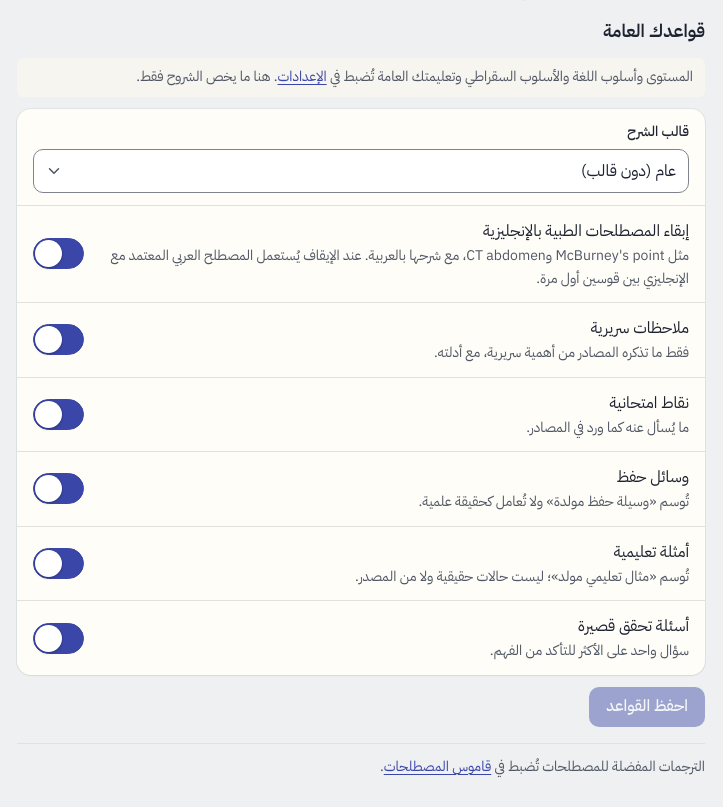
RulesScreen › shows the effective rules with where each value comes from; saving sends only the owner layer
(page scrolled)
Expected: the button "احفظ القواعد" is disabled, [589,687,705,727]
Click the 4th switch named "وسائل حفظ" at (58, 489), box [33,473,84,504]
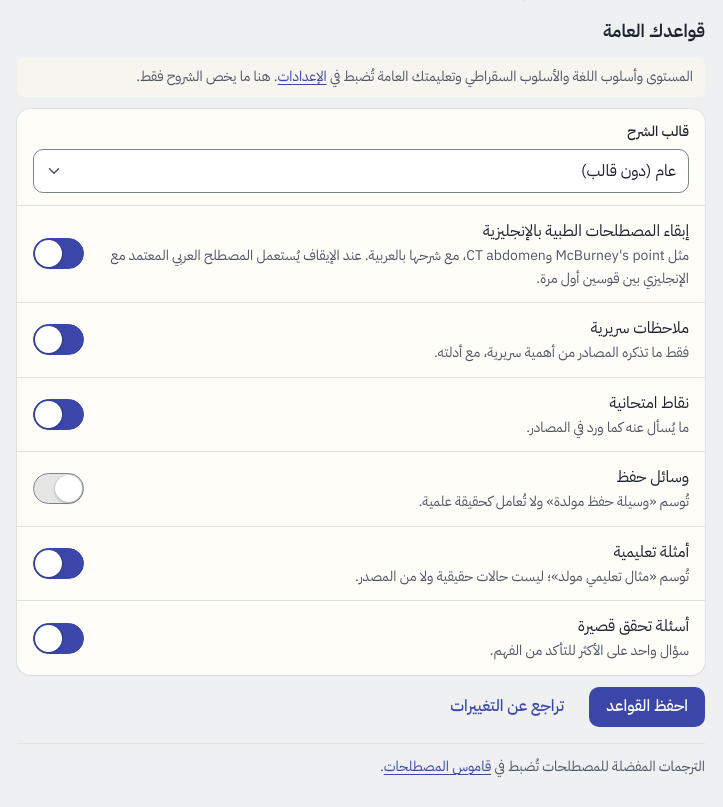
Now the button "احفظ القواعد" is enabled
Click the button "احفظ القواعد" at (647, 707), box [589,687,705,727]
(page scrolled)
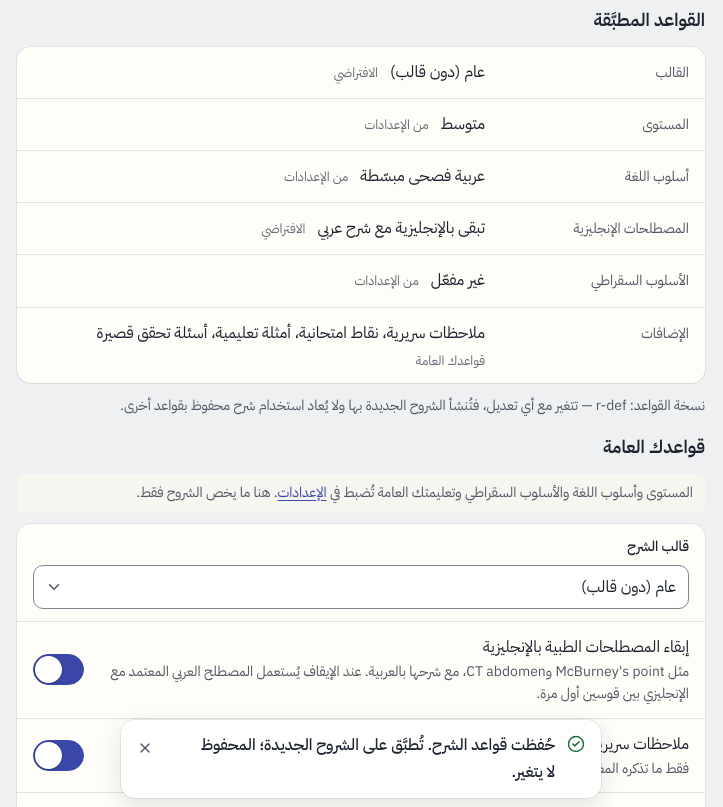
Now the text "r-def" is shown, box [596,395,626,416]
